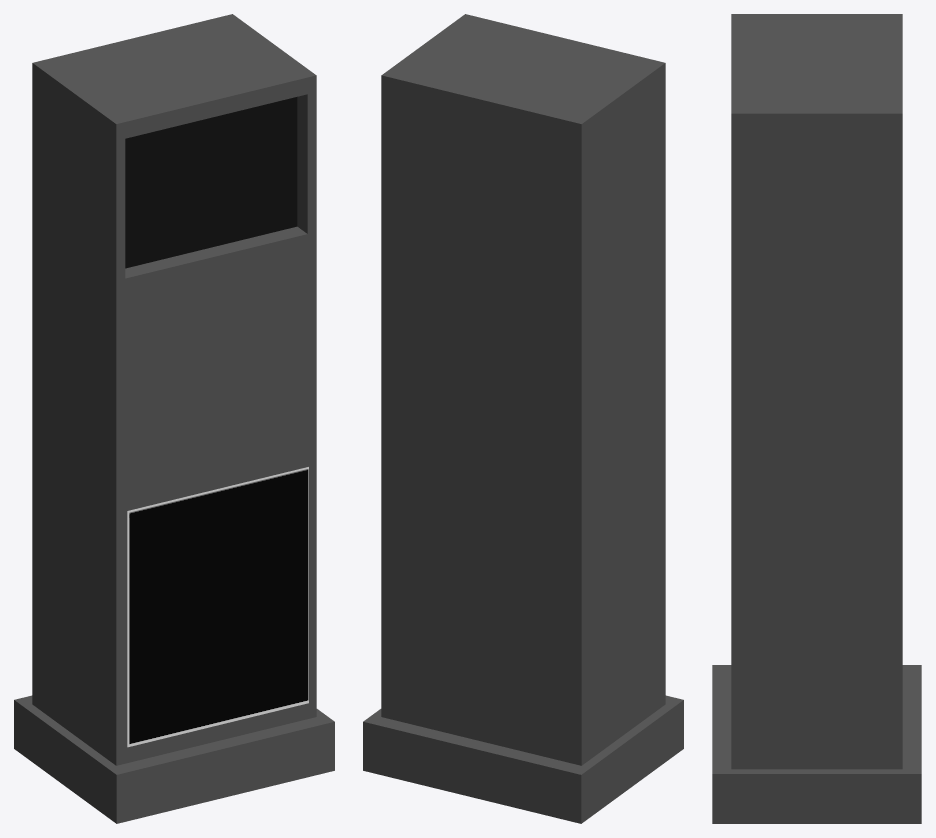
Rendered from Itr_Airconditioner2_Body_03.FBX.
3 views of the same model, side by side, from view 1: azimuth 30°, elevation 25°; view 2: azimuth 150°, elevation 25°; view 3: azimuth 270°, elevation 25° (orthographic). The views are drawn at different scales.
Visible parts, largest first — view 1: Itr_Airconditioner2_Body_03; view 2: Itr_Airconditioner2_Body_03; view 3: Itr_Airconditioner2_Body_03.
Boxes of the visible parts, x1,y1,x2,y2 form: Itr_Airconditioner2_Body_03: (14,14,334,823); Itr_Airconditioner2_Body_03: (363,14,683,823); Itr_Airconditioner2_Body_03: (712,14,921,823).
Size of the model in its own units: 26.9 by 81.38 by 21.9.
